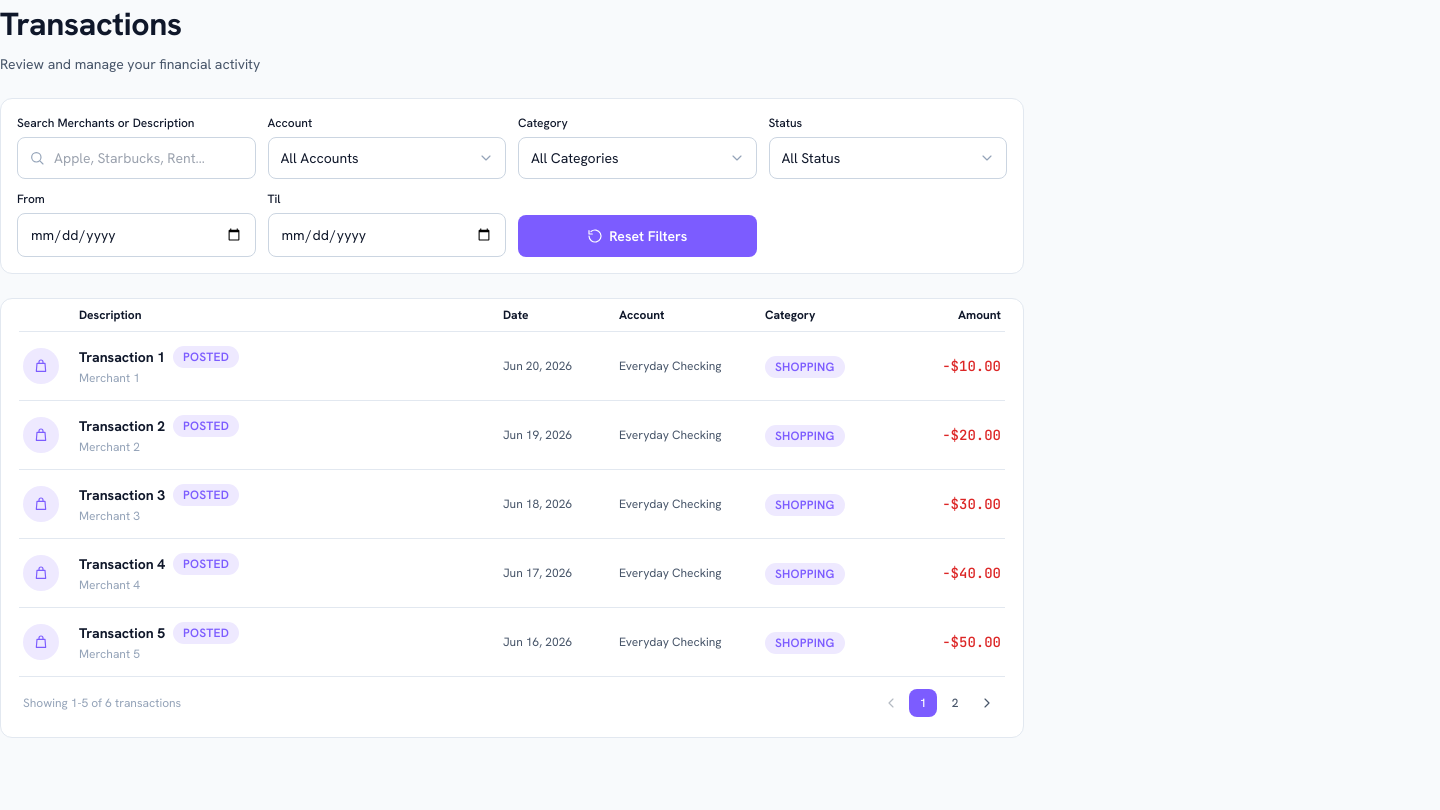
Test case: TransactionsView › opens the detail panel when a transaction row is clicked
The image size is (1440, 810).
Click the button that starts with "Transaction 1".
click(512, 366)  # box [19,332,1005,401]
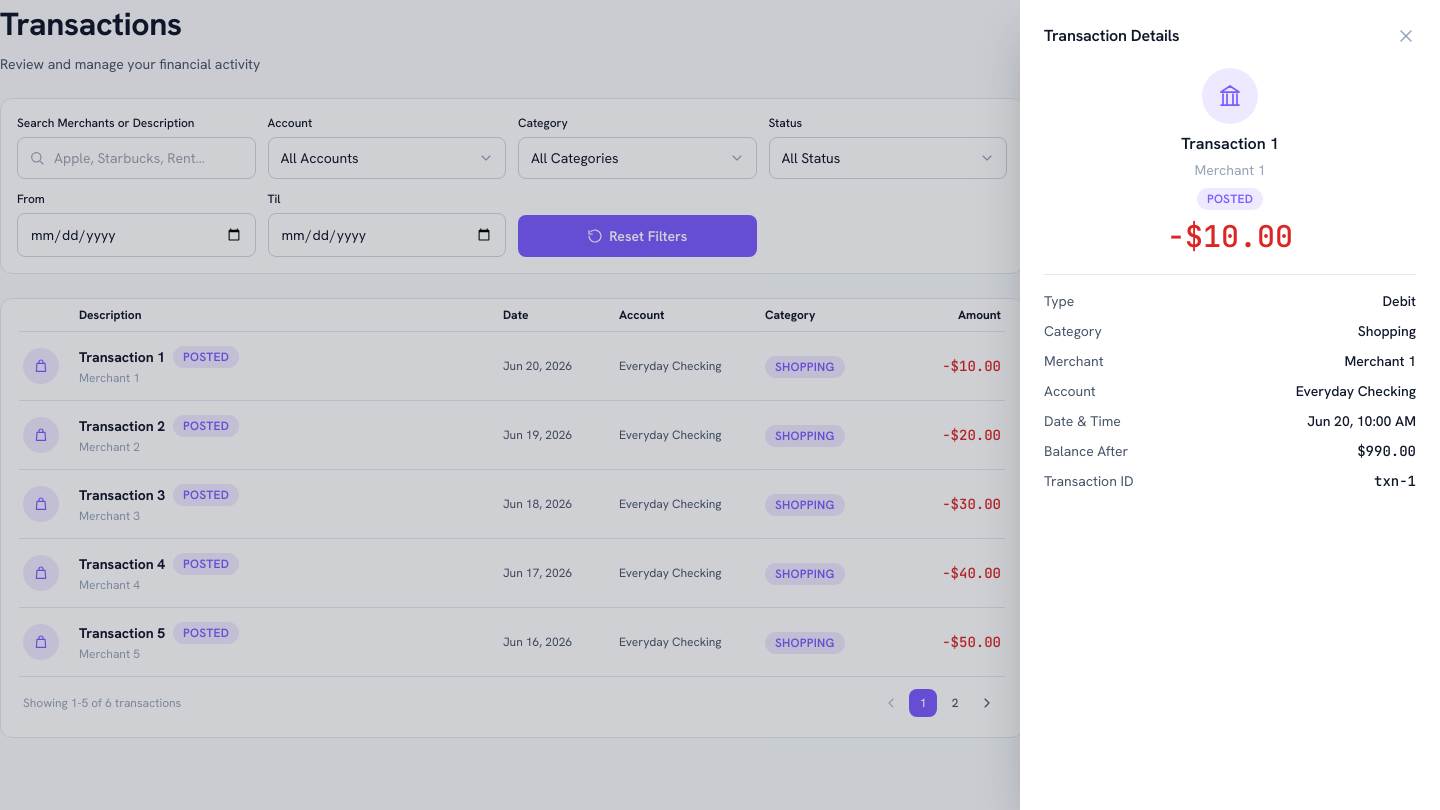
Expected: the text "Everyday Checking" is shown, [619,358,722,374]
Expected: the text "Transaction Details" is shown, [1044,24,1179,48]
